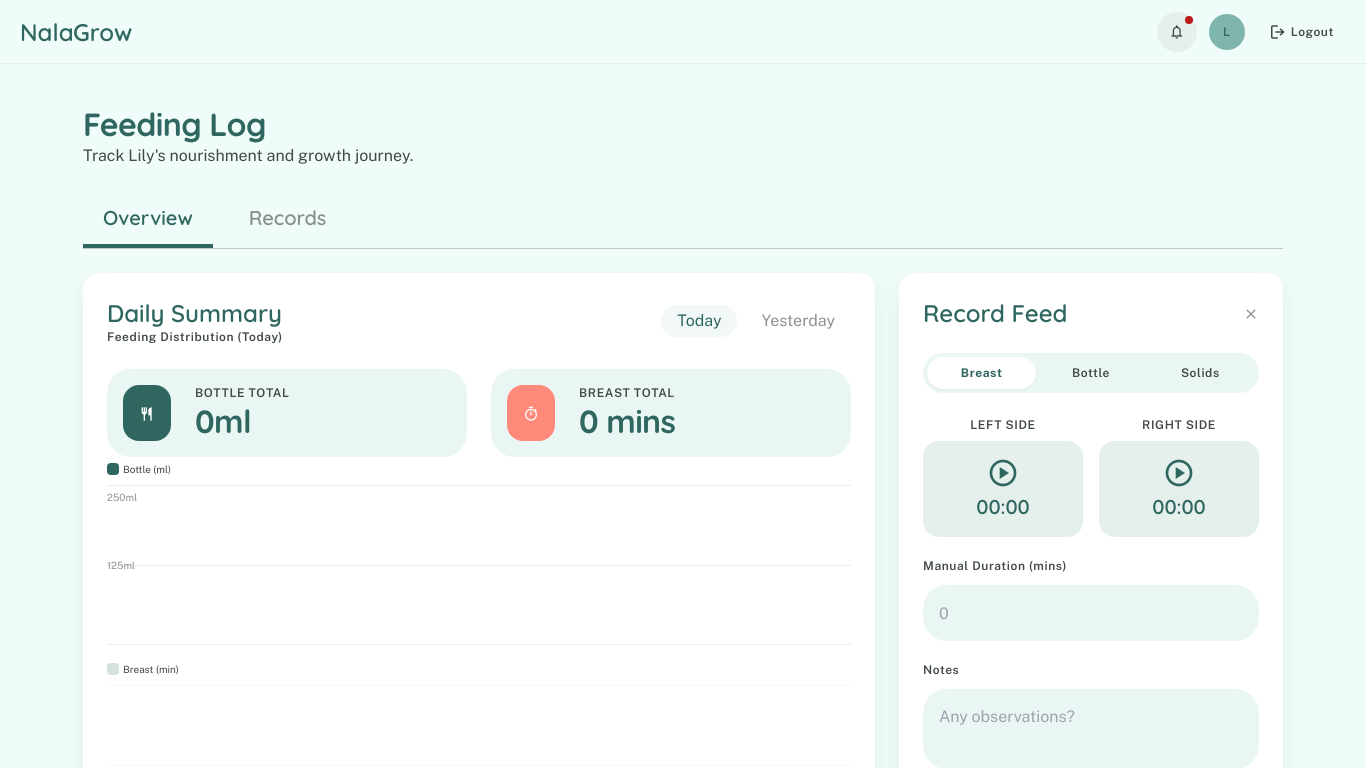
Test: FeedingPage › AZH-384 interactive controls › lets the feed panel close and reopen
This screenshot has width=1366, height=768.
Step 1. Click the button named "Close feed entry" → (1251, 313), box [1243, 301, 1259, 325]
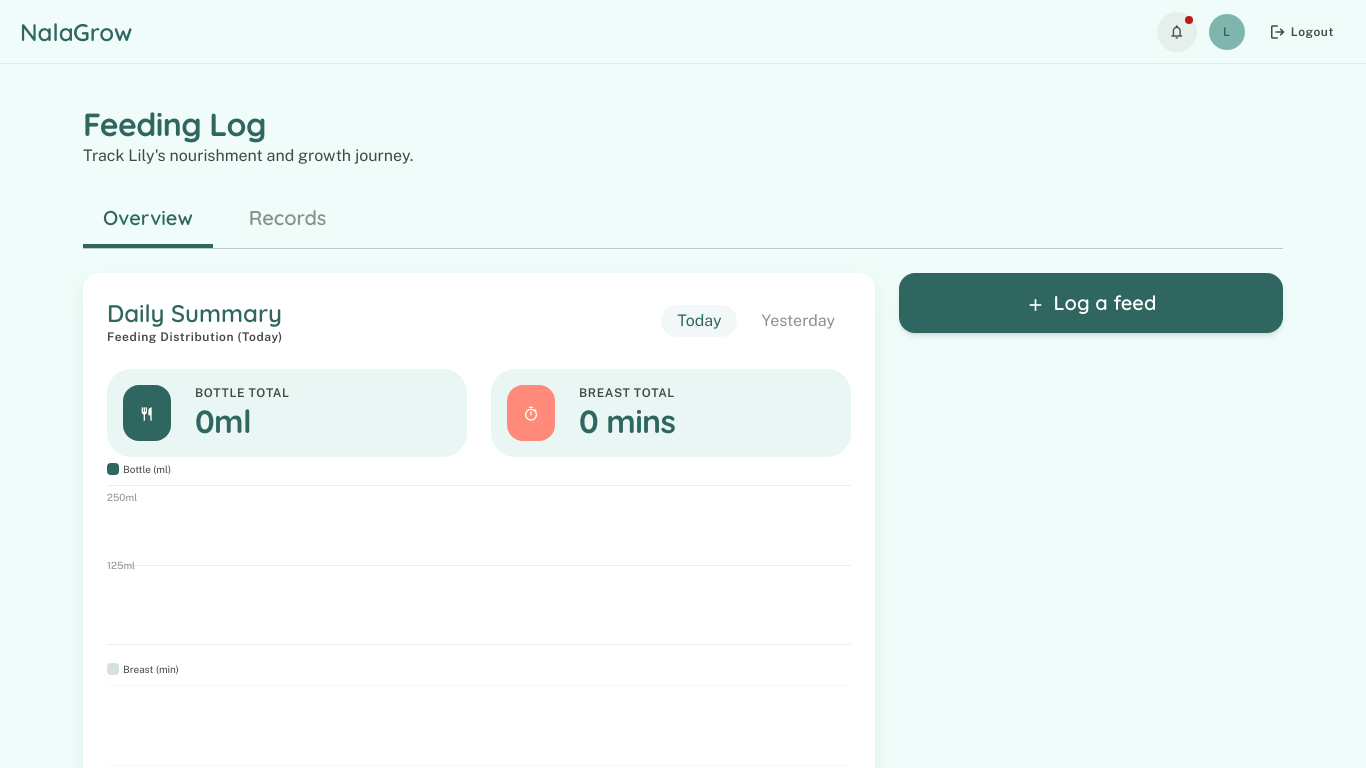
Expected: the heading "Record Feed" is gone
Step 2. Click the button "Log a feed" → (1091, 303), box [899, 273, 1283, 333]
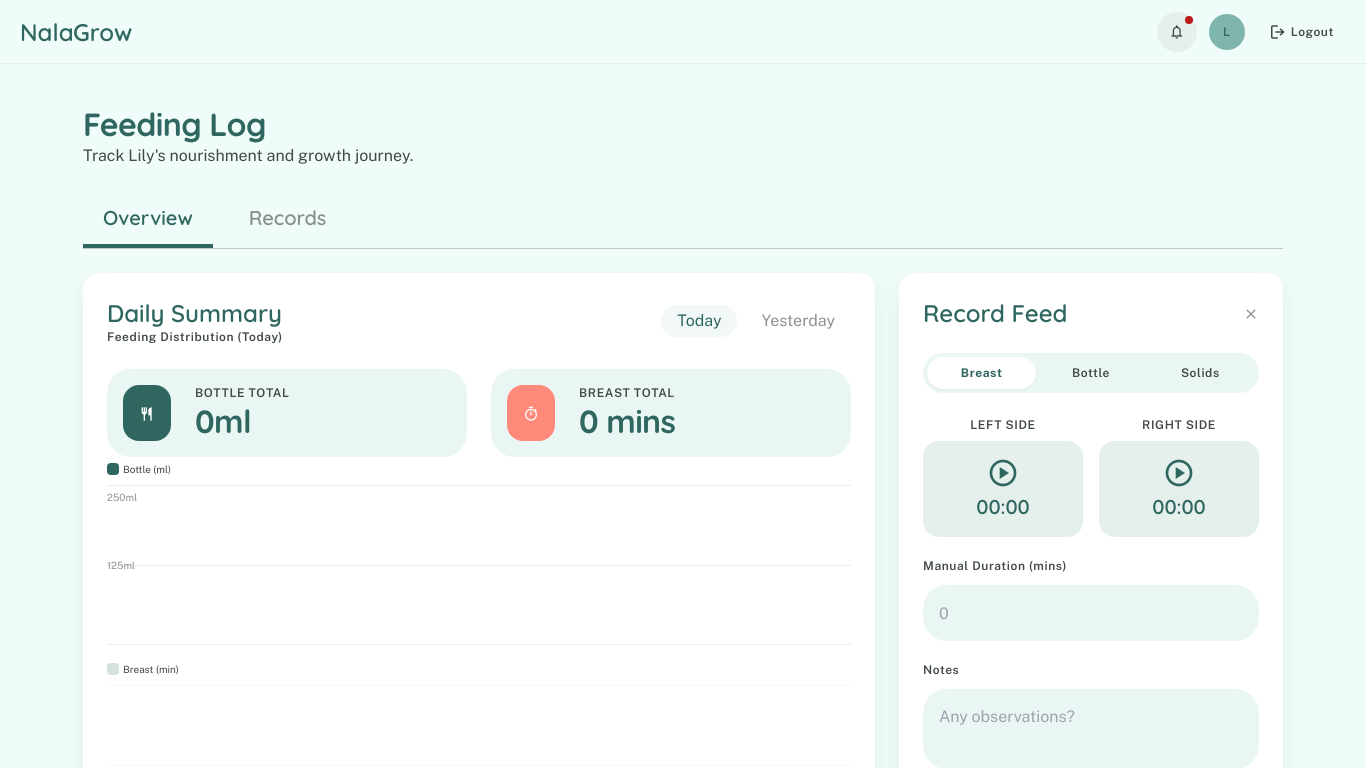
Expected: the heading "Record Feed" is shown, [923, 297, 1068, 329]
